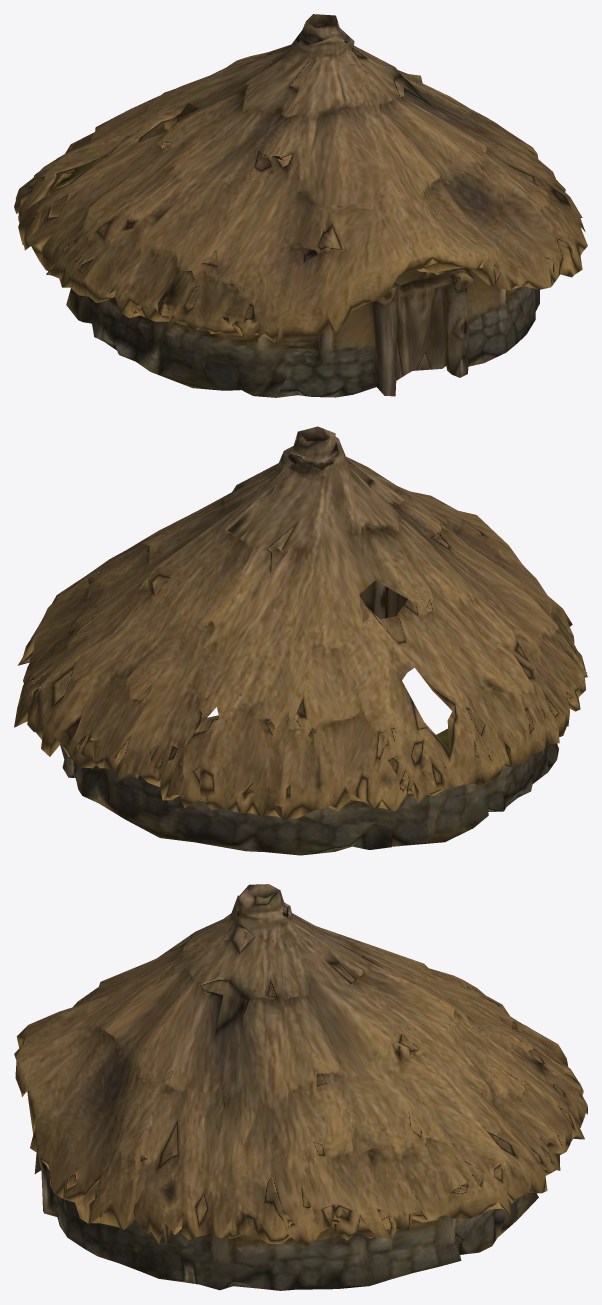
The model's file is maja2.glb.
The picture shows the model from 3 angles, top to bottom: view 1: azimuth 30°, elevation 25°; view 2: azimuth 150°, elevation 25°; view 3: azimuth 270°, elevation 25°; orthographic projection. The views are drawn at different scales.
Parts seen in each view (by area): view 1: model; view 2: model; view 3: model.
Part boxes in pixels (x1,y1,x2,y2): model: [14, 14, 587, 397]; model: [14, 426, 587, 855]; model: [14, 884, 587, 1290].
Size of the model in its own units: 0.9828 by 0.5648 by 0.9682.
1 material, 1 textured.
